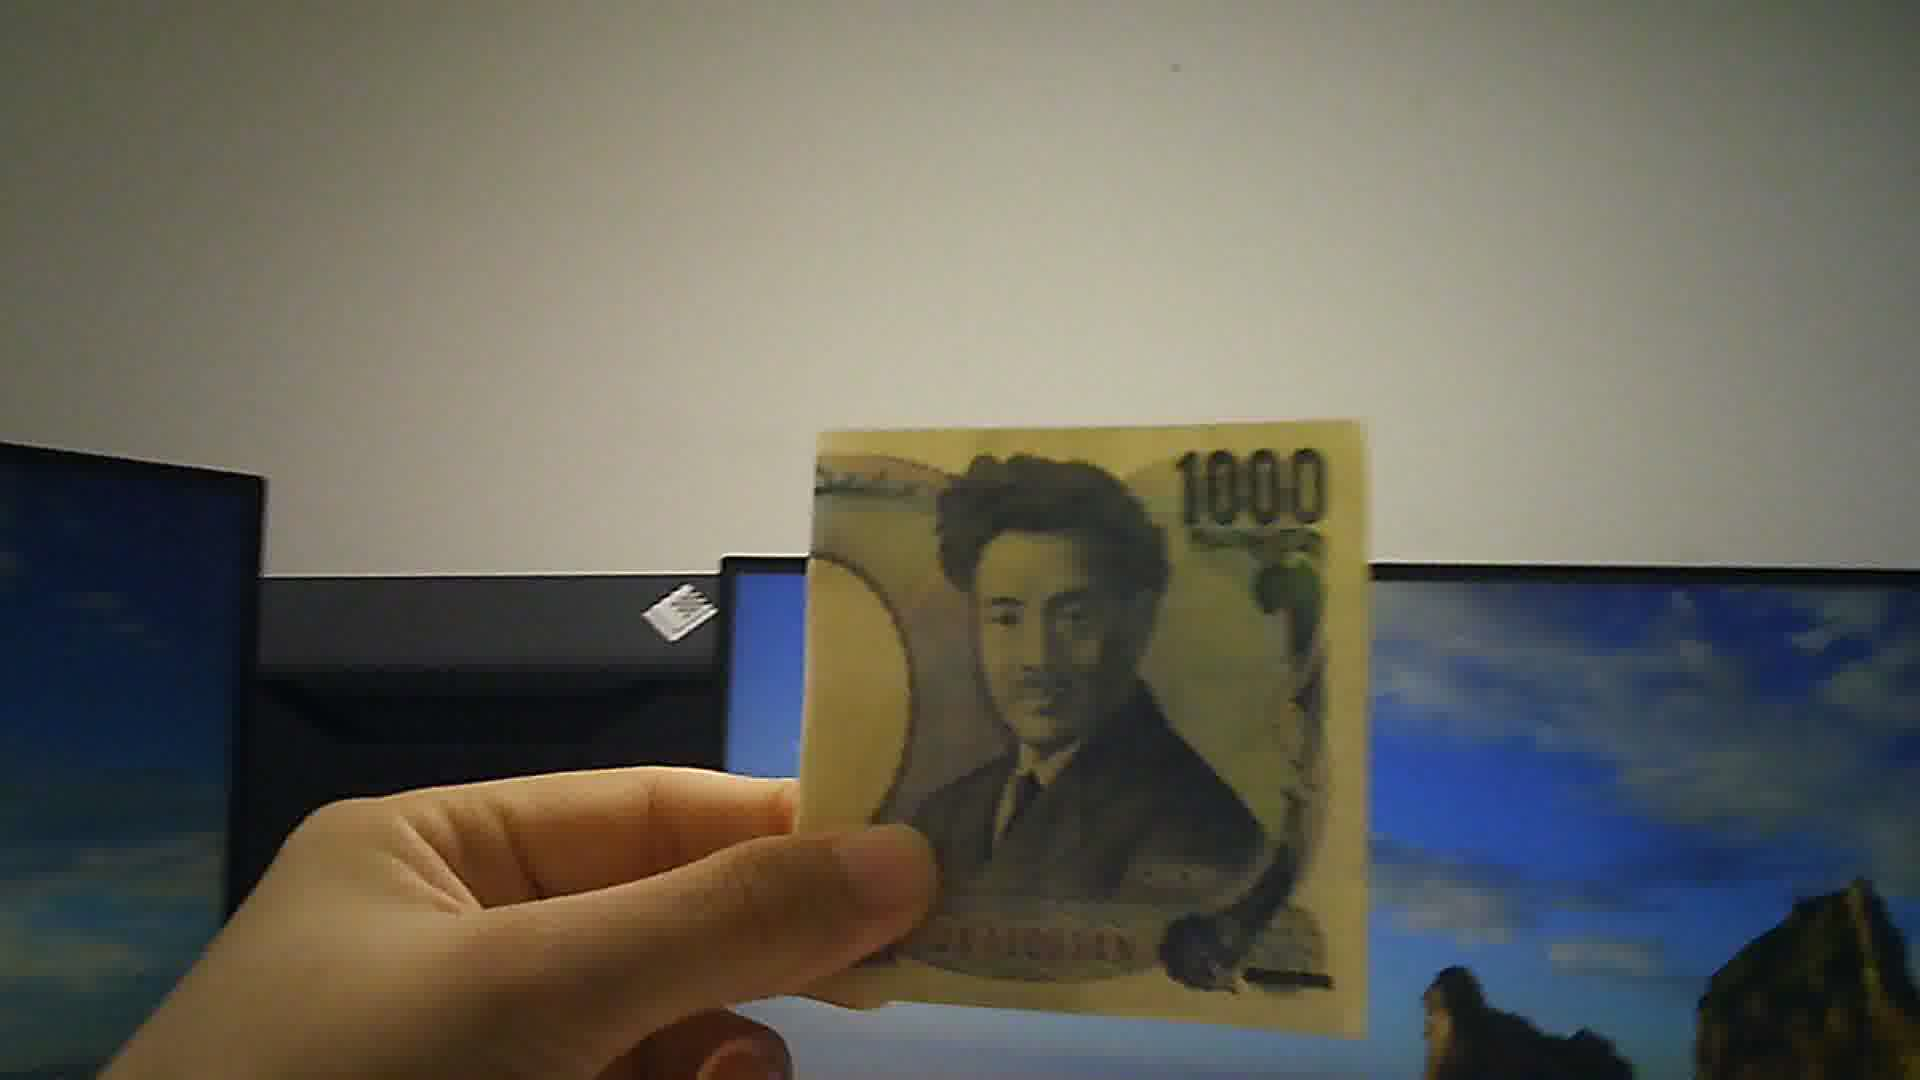1,000 Yen: (789, 400, 1375, 1038)
